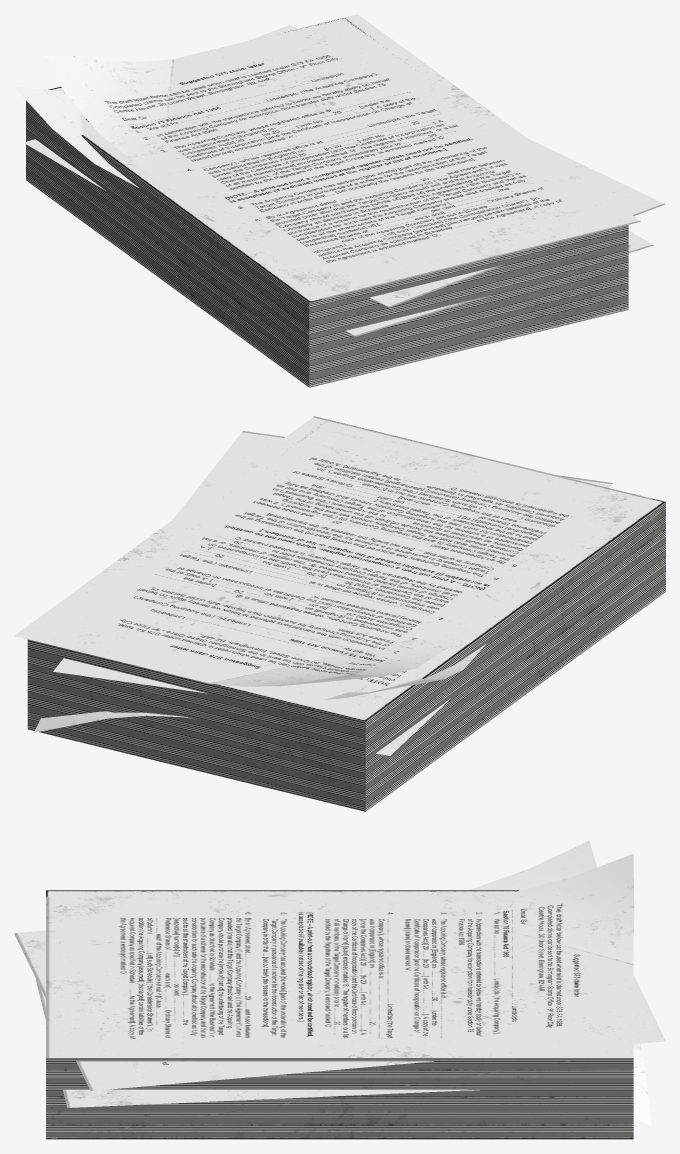
File: paper.glb
The picture shows the model from 3 angles, top to bottom: view 1: azimuth 30°, elevation 25°; view 2: azimuth 150°, elevation 25°; view 3: azimuth 270°, elevation 25°; orthographic projection. The views are drawn at different scales.
Visible parts, largest first — view 1: 02_all_0, 01_all_0, 02_1_all_0, 02_2_all_0; view 2: 02_all_0, 01_all_0, 02_1_all_0, 02_2_all_0; view 3: 02_all_0, 01_all_0, 02_1_all_0, 02_2_all_0.
Boxes of the visible parts, box(x1,y1,x2,y2) form: 02_all_0: box(39, 14, 640, 299); 01_all_0: box(26, 18, 628, 387); 02_1_all_0: box(14, 25, 665, 307); 02_2_all_0: box(24, 139, 653, 336); 02_all_0: box(14, 416, 651, 686); 01_all_0: box(27, 421, 665, 811); 02_1_all_0: box(53, 431, 612, 699); 02_2_all_0: box(34, 698, 450, 755); 02_all_0: box(46, 853, 634, 1057); 01_all_0: box(46, 890, 633, 1139); 02_1_all_0: box(14, 840, 665, 1090); 02_2_all_0: box(35, 978, 651, 1125).
Bounding box in the file's own units: 6.52 × 1.92 × 8.65.
Materials: 1 (1 with a texture image).
